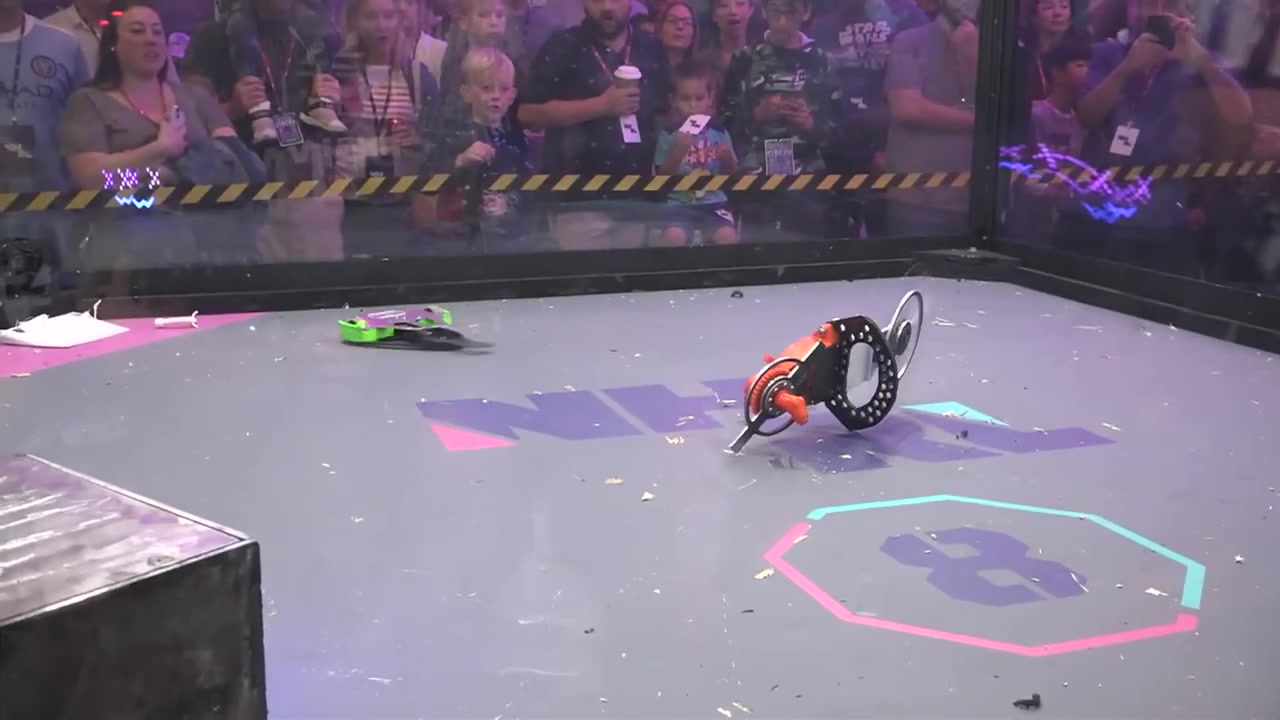combatbot: (743, 291, 906, 455), (337, 304, 481, 351)
debris: (1011, 692, 1043, 714)
housebot: (0, 450, 268, 720)
minibot: (1, 310, 127, 351)
